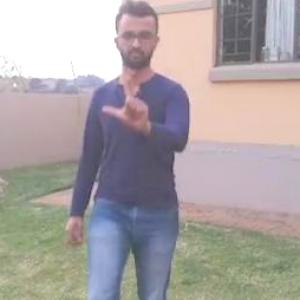land_hand: (99, 64, 156, 131)
